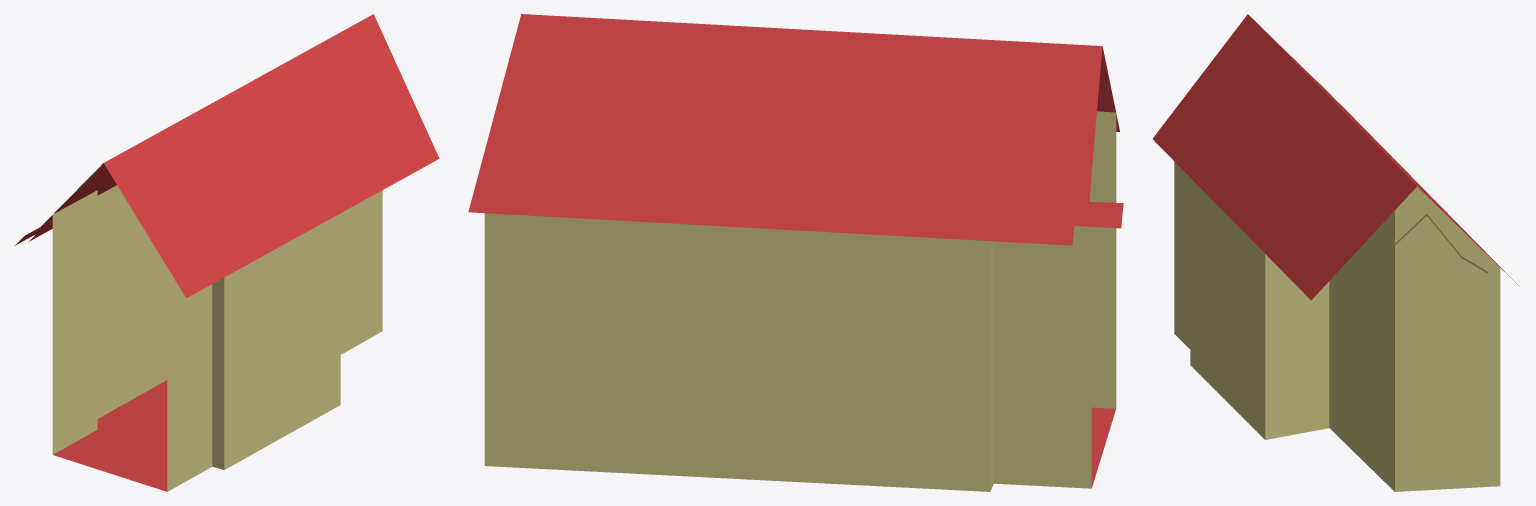
The picture shows the model from 3 angles, left to right: view 1: azimuth 30°, elevation 25°; view 2: azimuth 150°, elevation 25°; view 3: azimuth 270°, elevation 25°; orthographic projection. The views are drawn at different scales.
Size of the model in its own units: 22.32 by 17.11 by 15.68.
